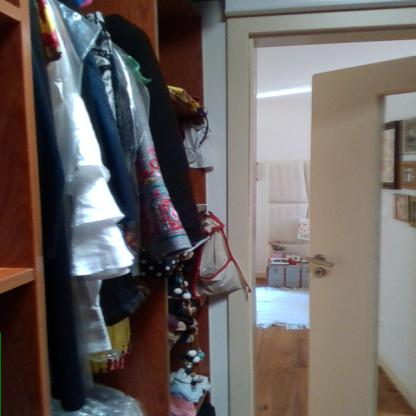semi: (218, 7, 415, 415)
